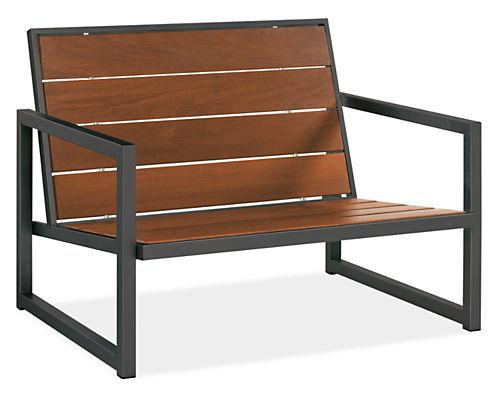chair: (10, 15, 495, 394)
